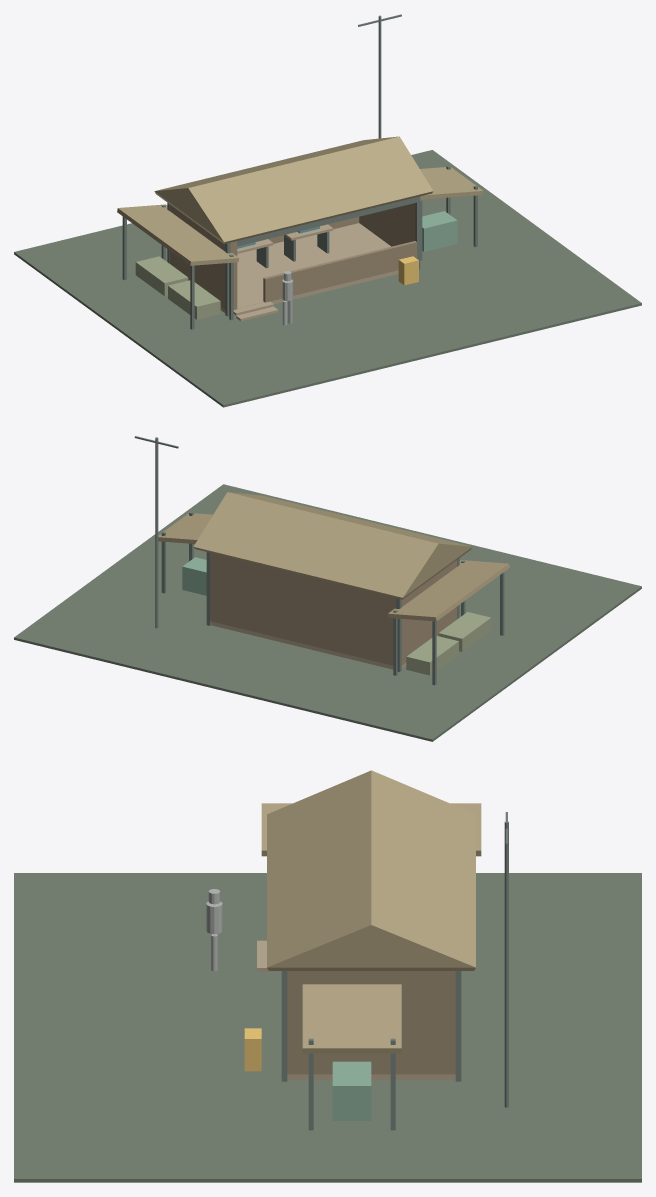
File: C2_MissionBlockout.fbx
3 renders of one model, top to bottom at view 1: azimuth 30°, elevation 25°; view 2: azimuth 150°, elevation 25°; view 3: azimuth 270°, elevation 25°, orthographic. The views are drawn at different scales.
Visible parts, largest first — view 1: Review ground.001, Palm roof volume.001, Raised plank floor.001, Open radio window sill, Single slope roof.001, Side wall.002, Side wall.003, Single slope roof.002, Shift cot, Generator block, Shift cot.001, Window header; view 2: Review ground.001, Palm roof volume.001, Rear wall.001, Single slope roof.001, Side wall.002, Shift cot.001, Shift cot, Single slope roof.002, Raised plank floor.001, Generator block, Antenna landmark; view 3: Review ground.001, Palm roof volume.001, Side wall.003, Single slope roof.002, Generator block, Antenna landmark, Single slope roof.001, Raised plank floor.001, Local power target, Frame post.006, Frame post.007.
Boxes of the visible parts, box(x1,y1,x2,y2) form: Review ground.001: box(14, 150, 641, 407); Palm roof volume.001: box(154, 136, 433, 243); Raised plank floor.001: box(220, 223, 398, 312); Open radio window sill: box(263, 241, 417, 302); Single slope roof.001: box(117, 204, 239, 265); Side wall.002: box(169, 204, 225, 309); Side wall.003: box(359, 203, 415, 246); Single slope roof.002: box(420, 167, 483, 199); Shift cot: box(168, 280, 220, 319); Generator block: box(422, 211, 457, 251); Shift cot.001: box(135, 256, 188, 296); Window header: box(265, 197, 418, 239); Review ground.001: box(14, 484, 641, 741); Palm roof volume.001: box(193, 492, 472, 599); Rear wall.001: box(210, 553, 396, 665); Single slope roof.001: box(388, 560, 509, 621); Side wall.002: box(401, 560, 457, 665); Shift cot.001: box(406, 636, 458, 675); Shift cot: box(438, 612, 491, 651); Single slope roof.002: box(158, 513, 212, 543); Raised plank floor.001: box(211, 621, 406, 669); Generator block: box(182, 557, 206, 595); Antenna landmark: box(155, 437, 158, 628); Review ground.001: box(14, 873, 641, 1182); Palm roof volume.001: box(267, 770, 475, 970); Side wall.003: box(287, 971, 455, 1074); Single slope roof.002: box(302, 984, 401, 1053); Generator block: box(332, 1061, 371, 1120); Antenna landmark: box(504, 821, 508, 1107); Single slope roof.001: box(261, 803, 481, 856); Raised plank floor.001: box(287, 1074, 455, 1080); Local power target: box(244, 1028, 261, 1071); Frame post.006: box(281, 971, 287, 1081); Frame post.007: box(455, 971, 461, 1081).
Size of the model in its own units: 1500 by 660 by 1300.
